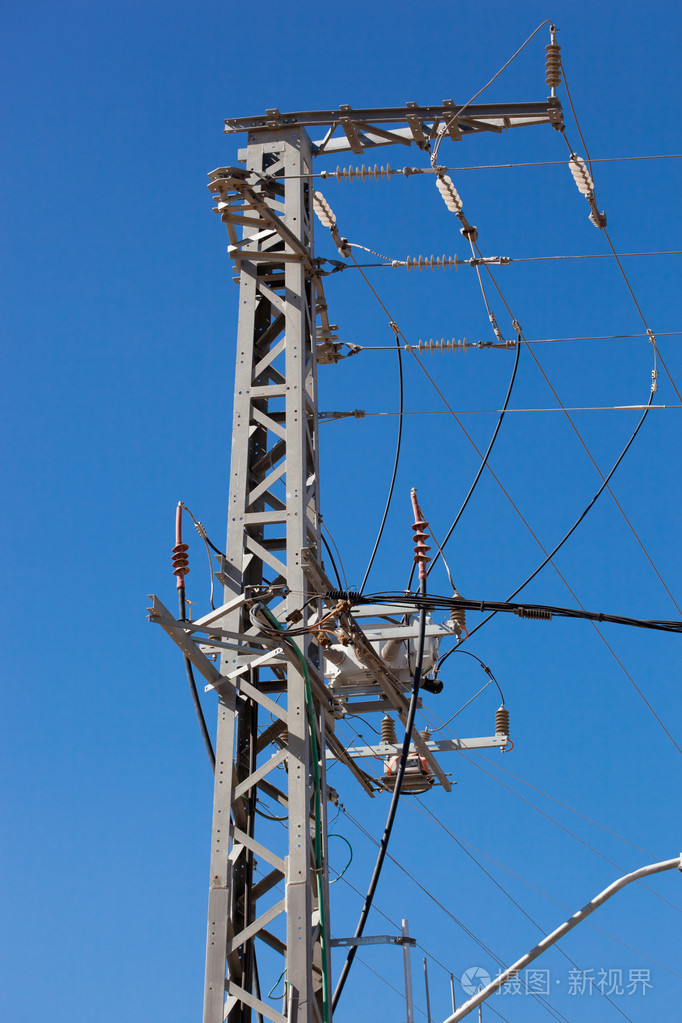insulator: (329, 160, 400, 182), (413, 335, 471, 358), (564, 157, 596, 196), (405, 250, 456, 272), (308, 191, 340, 226), (437, 174, 463, 214), (544, 42, 566, 87), (167, 539, 191, 579), (411, 519, 431, 567)
